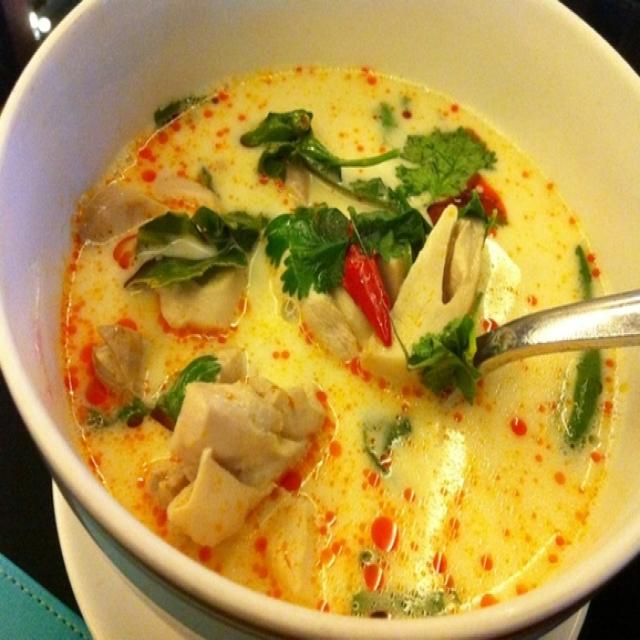汤锅炖物: (56, 41, 592, 614)
